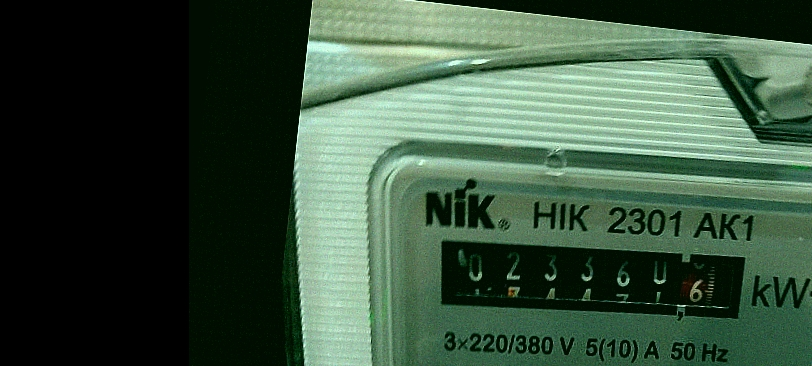0: (463, 248, 489, 284), (647, 254, 672, 287)
2: (503, 247, 526, 282)
3: (577, 248, 599, 283), (539, 250, 561, 283)
6: (611, 254, 636, 289), (685, 271, 709, 306)
screen: (418, 212, 764, 344)
